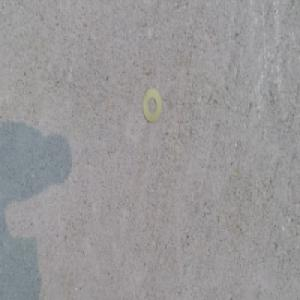Washer: (142, 88, 162, 124)
